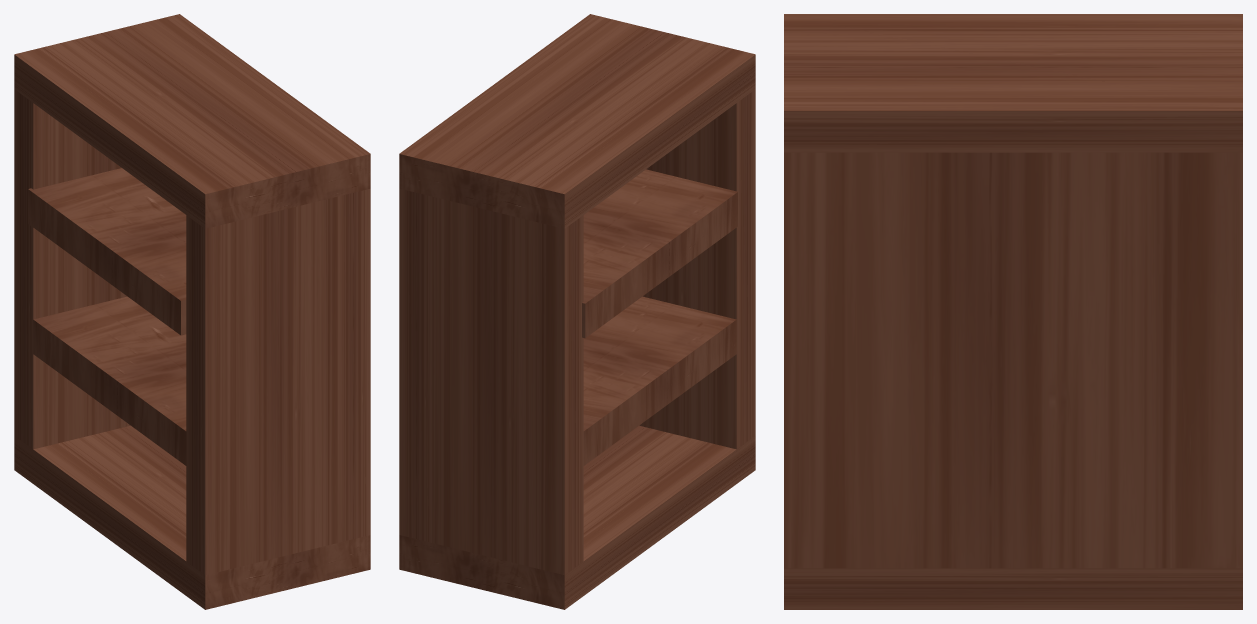
The model's file is BookCase.fbx.
3 renders of one model, left to right at view 1: azimuth 30°, elevation 25°; view 2: azimuth 150°, elevation 25°; view 3: azimuth 270°, elevation 25°, orthographic. The views are drawn at different scales.
Parts seen in each view (by area): view 1: block (×7); view 2: block (×7); view 3: block (×3).
Boxes of the visible parts, bbox=[...] form: block (×7): bbox=[14, 14, 370, 609]; block (×7): bbox=[399, 14, 755, 609]; block (×3): bbox=[784, 14, 1242, 609].
Size of the model in its own units: 5.1 by 12 by 10.
